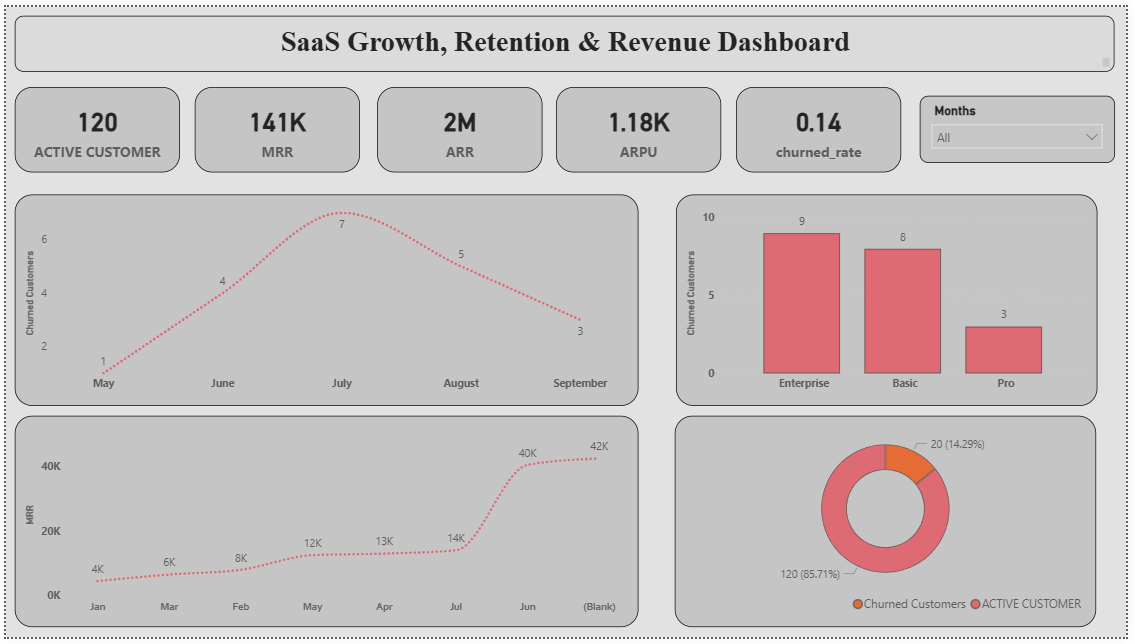

The dashboard page shown, as its layout file describes it:
{"tool":"powerbi","page":{"name":"Page 1","canvas":[1280,720],"ordinal":0},"visuals":[{"type":"textbox","title":"SaaS Growth, Retention & Revenue Dashboard","box":[10,10,1257.1,64.3],"z":0},{"type":"card","fields":{"Values":["public customer_subscriptions.ACTIVE CUSTOMER"]},"box":[10,91.2,188.8,97.5],"z":1000},{"type":"card","fields":{"Values":["public customer_subscriptions.MRR"]},"box":[216.2,91.2,188.8,97.5],"z":2000},{"type":"card","fields":{"Values":["public customer_subscriptions.ARR"]},"box":[423.8,91.2,188.8,97.5],"z":3000},{"type":"card","fields":{"Values":["public customer_subscriptions.ARPU"]},"box":[628.8,91.2,188.8,97.5],"z":4000},{"type":"card","fields":{"Values":["public customer_subscriptions.churned_rate"]},"box":[833.8,91.2,188.8,97.5],"z":5000},{"type":"lineChart","fields":{"Y":["public customer_subscriptions.CHURNED_CUSTOMER"],"Category":["Calendar.Date.Variation.Date Hierarchy.Month"]},"box":[10,214.3,712.9,241.4],"z":6000},{"type":"columnChart","fields":{"Y":["public customer_subscriptions.CHURNED_CUSTOMER"],"Category":["public customer_subscriptions.plan_type"]},"box":[765.7,214.3,481.4,241.4],"z":7000},{"type":"lineChart","fields":{"Category":["Calendar.Month Name"],"Y":["public customer_subscriptions.MRR"]},"box":[10,467.1,712.9,241.4],"z":8000},{"type":"donutChart","fields":{"Y":["public customer_subscriptions.Churned Customers","public customer_subscriptions.ACTIVE CUSTOMER"]},"box":[764.3,467.1,481.4,241.4],"z":9000},{"type":"slicer","fields":{"Values":["Calendar.Month Name"]},"box":[1044.3,101.4,222.9,77.1],"z":10000}]}

Visuals, with their boxes in screenshot pixels (x1, y1, x2, y2), scaled from the page's 1280x720 canvas onto the 1135x644 screenshot:
"SaaS Growth, Retention & Revenue Dashboard" textbox: [9, 9, 1124, 66]
card - public customer_subscriptions.ACTIVE CUSTOMER: [9, 82, 176, 169]
card - public customer_subscriptions.MRR: [192, 82, 359, 169]
card - public customer_subscriptions.ARR: [376, 82, 543, 169]
card - public customer_subscriptions.ARPU: [558, 82, 725, 169]
card - public customer_subscriptions.churned_rate: [739, 82, 907, 169]
lineChart - public customer_subscriptions.CHURNED_CUSTOMER x Calendar.Date.Variation.Date Hierarchy.Month: [9, 192, 641, 408]
columnChart - public customer_subscriptions.CHURNED_CUSTOMER x public customer_subscriptions.plan_type: [679, 192, 1106, 408]
lineChart - Calendar.Month Name x public customer_subscriptions.MRR: [9, 418, 641, 634]
donutChart - public customer_subscriptions.Churned Customers x public customer_subscriptions.ACTIVE CUSTOMER: [678, 418, 1105, 634]
slicer - Calendar.Month Name: [926, 91, 1124, 160]
